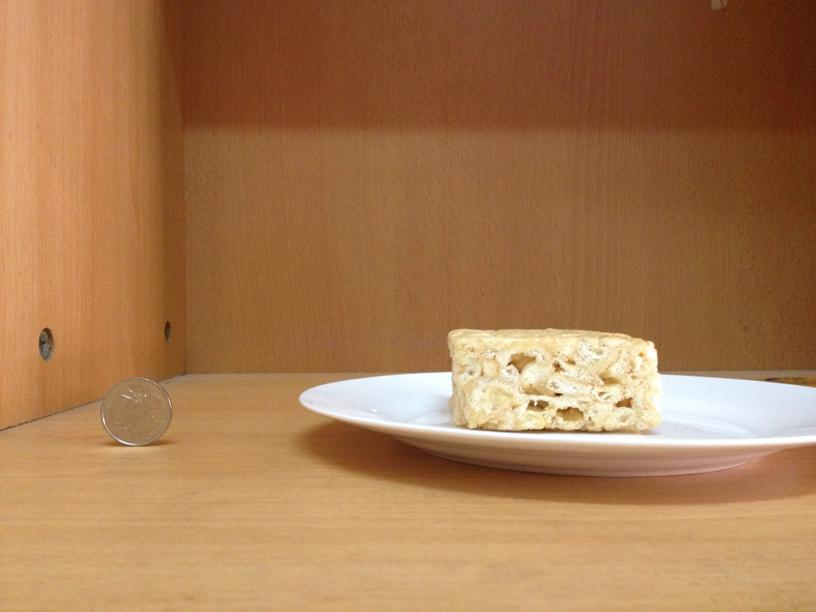coin: (96, 374, 175, 447)
sachima: (443, 325, 660, 434)
